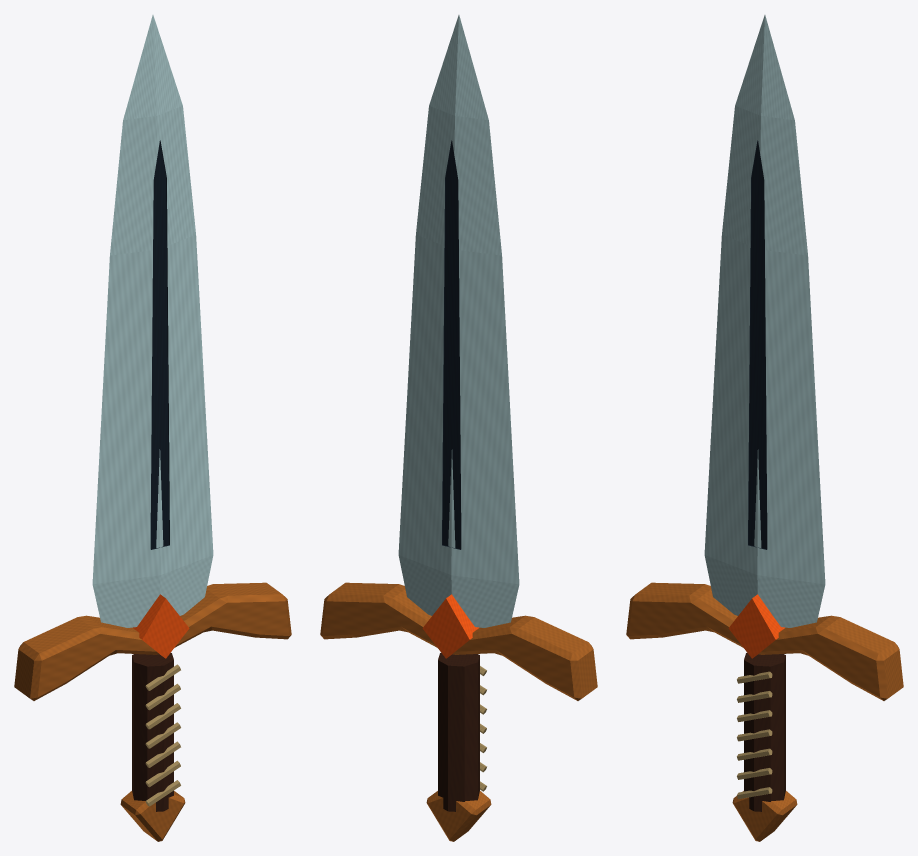
The model's file is StarcoreSword.fbx.
The picture shows the model from 3 angles, left to right: view 1: azimuth 30°, elevation 25°; view 2: azimuth 150°, elevation 25°; view 3: azimuth 330°, elevation 25°; orthographic projection.
Parts seen in each view (by area): view 1: StarcoreSword; view 2: StarcoreSword; view 3: StarcoreSword.
Boxes of the visible parts, x1=… form: StarcoreSword: x1=14, y1=15, x2=291, y2=841; StarcoreSword: x1=320, y1=15, x2=597, y2=841; StarcoreSword: x1=626, y1=15, x2=903, y2=841.
Bounding box in the file's own units: 49.79 × 149 × 8.5.
1 material, 1 textured.
